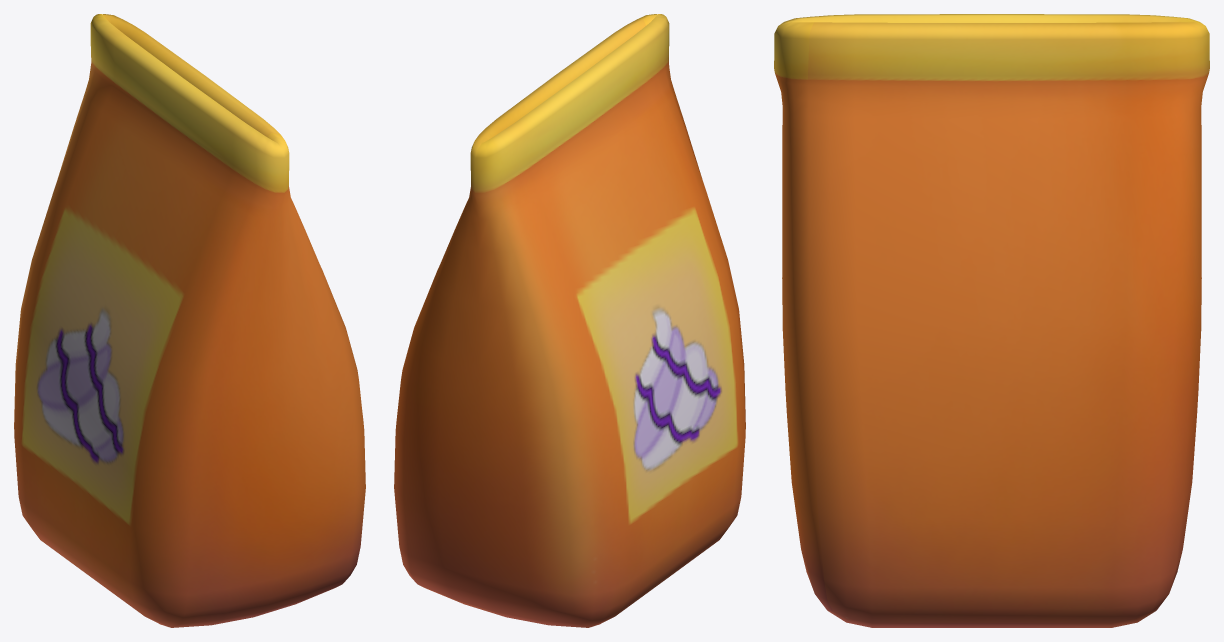
The model's file is Cream Packet.fbx.
The picture shows the model from 3 angles, left to right: view 1: azimuth 30°, elevation 25°; view 2: azimuth 150°, elevation 25°; view 3: azimuth 270°, elevation 25°; orthographic projection. The views are drawn at different scales.
Visible parts, largest first — view 1: Cream Packet; view 2: Cream Packet; view 3: Cream Packet.
Part boxes in pixels (bbox=[...]): Cream Packet: bbox=[14, 14, 365, 627]; Cream Packet: bbox=[394, 14, 745, 627]; Cream Packet: bbox=[774, 14, 1209, 627].
Size of the model in its own units: 108 by 156 by 226.
